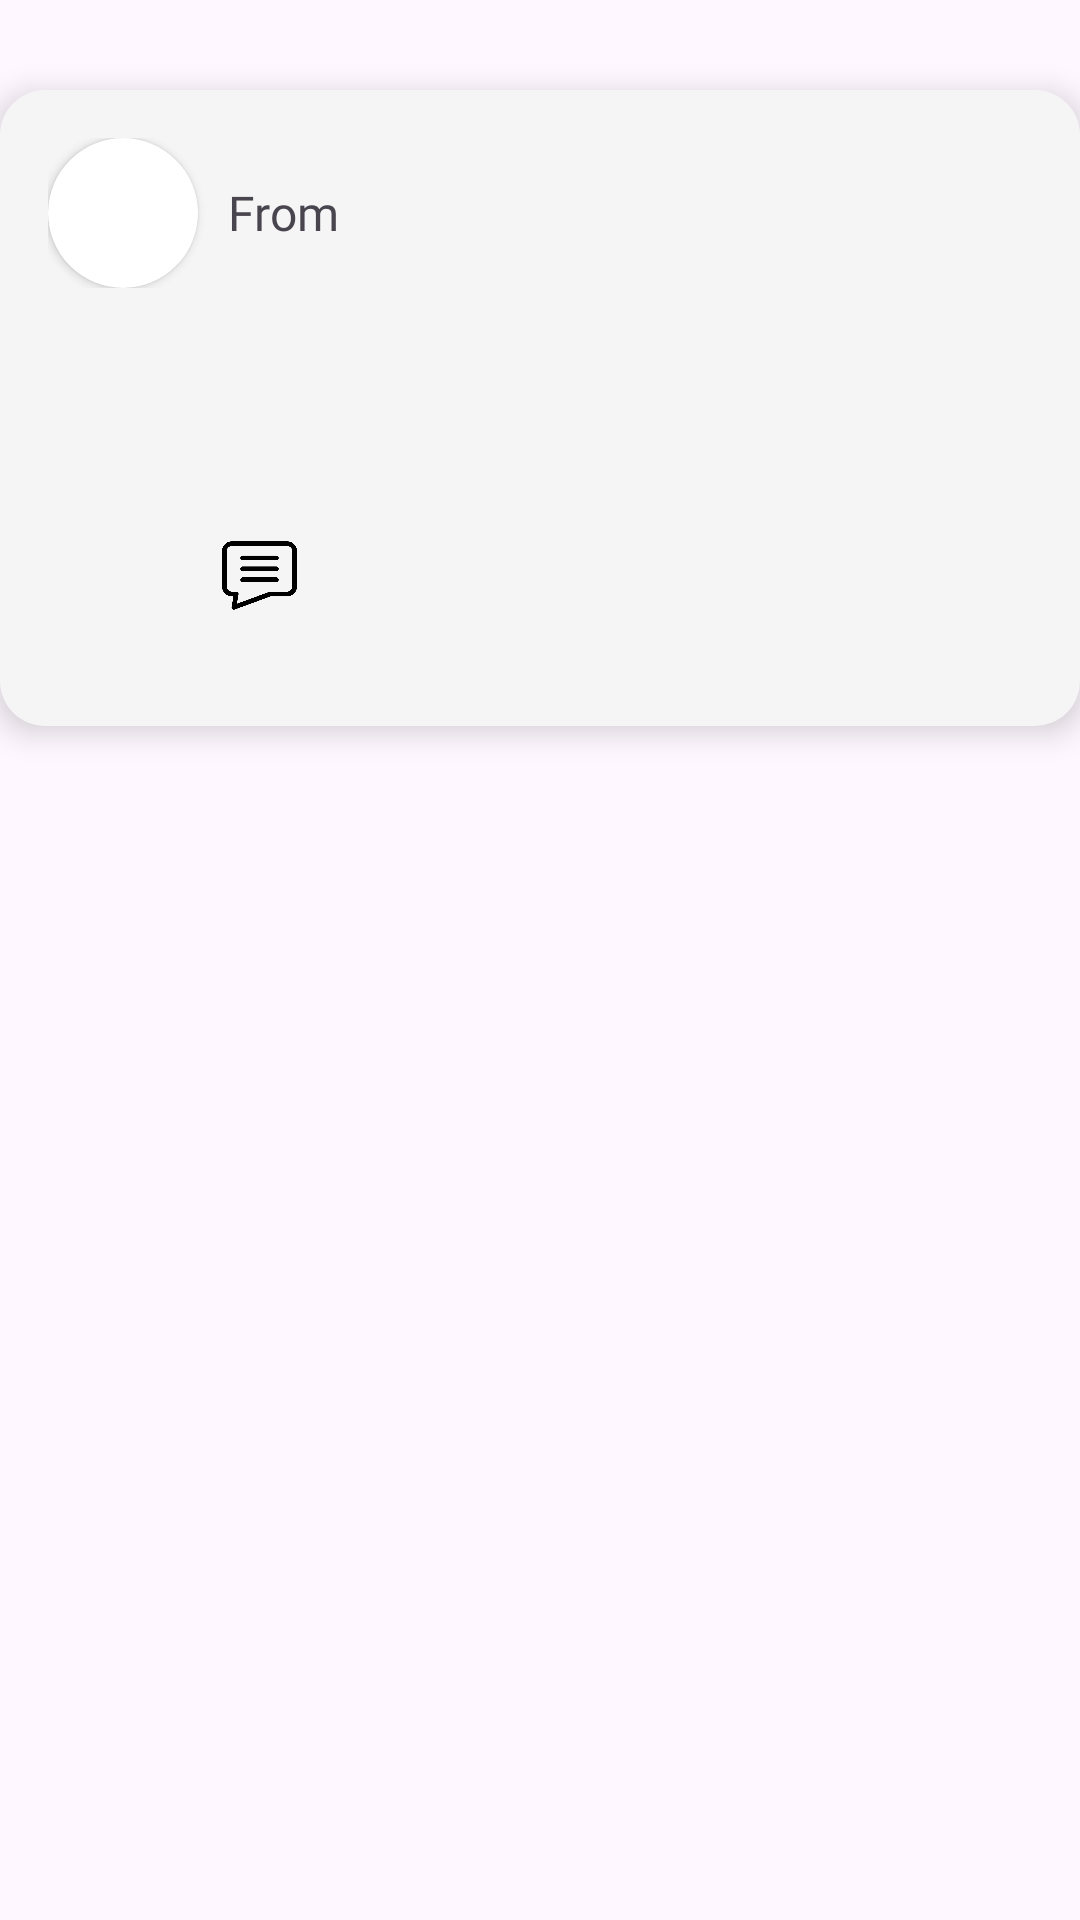

Icons on this 1080w x 1920h Android screen, each with its box as (x1, y1, x2, y2):
chaticon: (222, 541, 297, 610)
